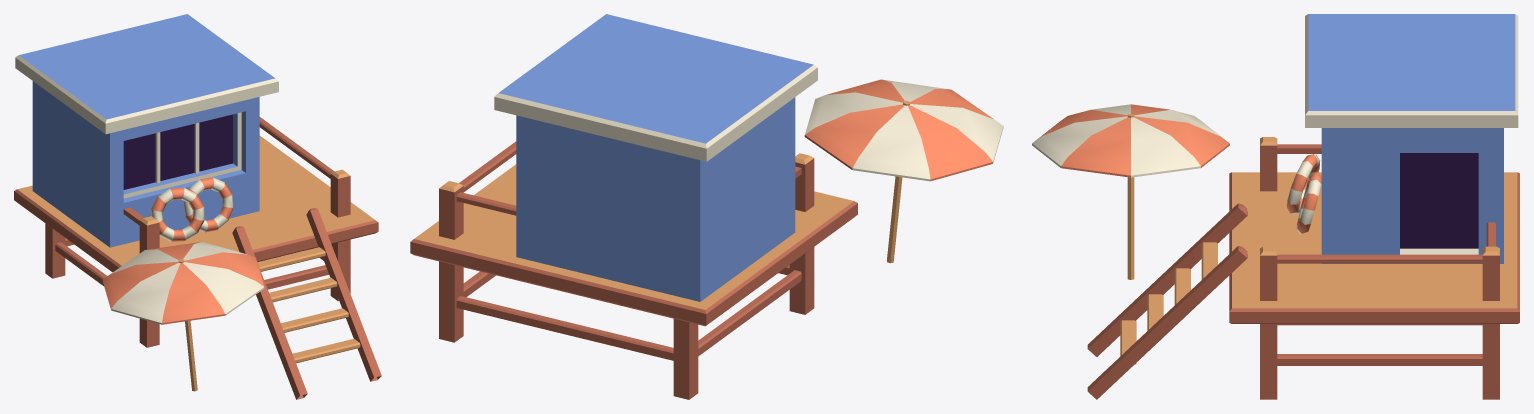
File: M_Beachhut2.fbx
The picture shows the model from 3 angles, left to right: view 1: azimuth 30°, elevation 25°; view 2: azimuth 150°, elevation 25°; view 3: azimuth 270°, elevation 25°; orthographic projection. The views are drawn at different scales.
Visible parts, largest first — view 1: beachhouse; view 2: beachhouse; view 3: beachhouse.
Part boxes in pixels (x1,y1,x2,y2): beachhouse: (14, 14, 381, 399); beachhouse: (410, 14, 1003, 399); beachhouse: (1032, 14, 1519, 399).
Bounding box in the file's own units: 1.19 × 0.8794 × 1.38.
1 material, 1 textured.
